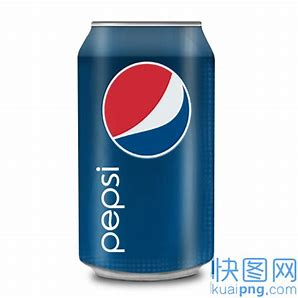Pepsi: (76, 18, 215, 279)
